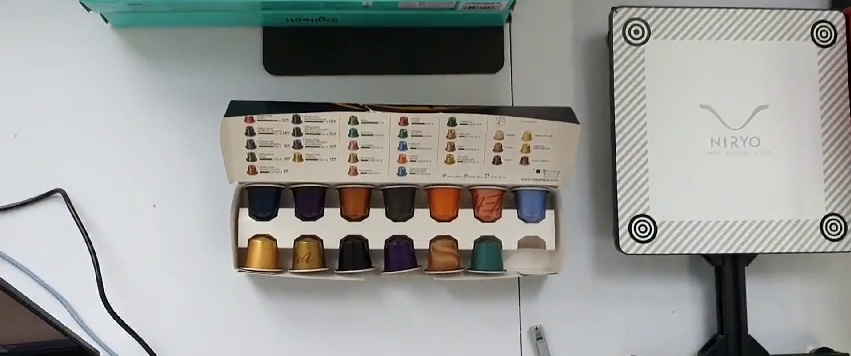capsule_1: (243, 182, 287, 224)
capsule_10: (334, 235, 376, 277)
capsule_11: (380, 237, 419, 276)
capsule_12: (422, 236, 462, 276)
capsule_13: (467, 236, 508, 278)
capsule_2: (286, 182, 331, 223)
capsule_3: (331, 183, 376, 224)
capsule_4: (381, 183, 419, 224)
capsule_5: (424, 184, 466, 223)
capsule_6: (467, 184, 508, 225)
capsule_7: (510, 188, 552, 223)
capsule_8: (236, 235, 281, 276)
capsule_9: (288, 234, 328, 278)
